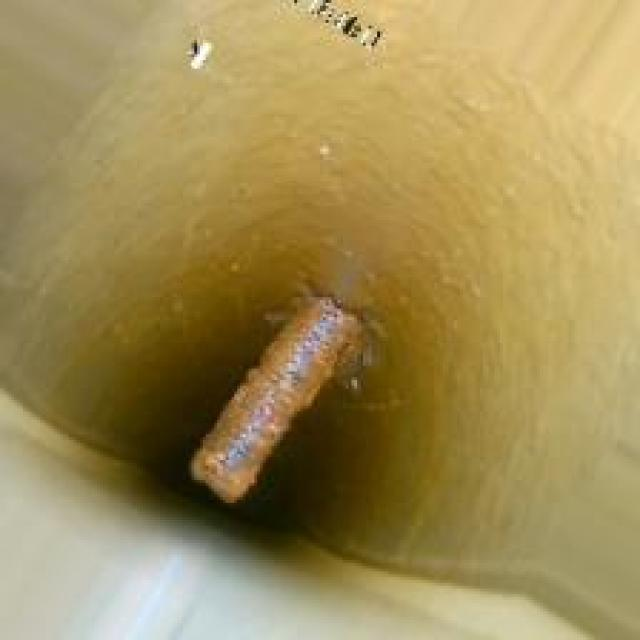ferrule: (180, 286, 363, 503)
